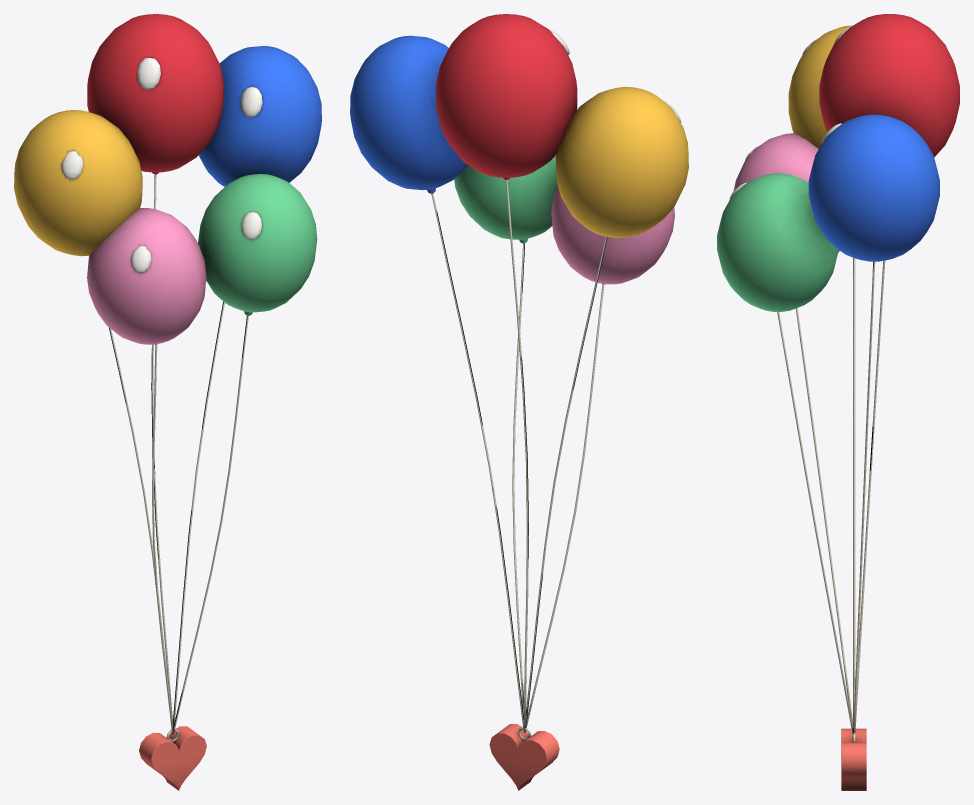
File: balloon_cluster.glb
3 views of the same model, side by side, from view 1: azimuth 30°, elevation 25°; view 2: azimuth 150°, elevation 25°; view 3: azimuth 270°, elevation 25° (orthographic). The views are drawn at different scales.
Parts seen in each view (by area): view 1: balloon_cluster; view 2: balloon_cluster; view 3: balloon_cluster.
Part boxes in pixels (left/top/right/bottom): balloon_cluster: left=14, top=14, right=321, bottom=790; balloon_cluster: left=350, top=14, right=688, bottom=790; balloon_cluster: left=717, top=14, right=959, bottom=790.
Bounding box in the file's own units: 0.6984 × 1.68 × 0.4785.
8 materials, 8 textured.
